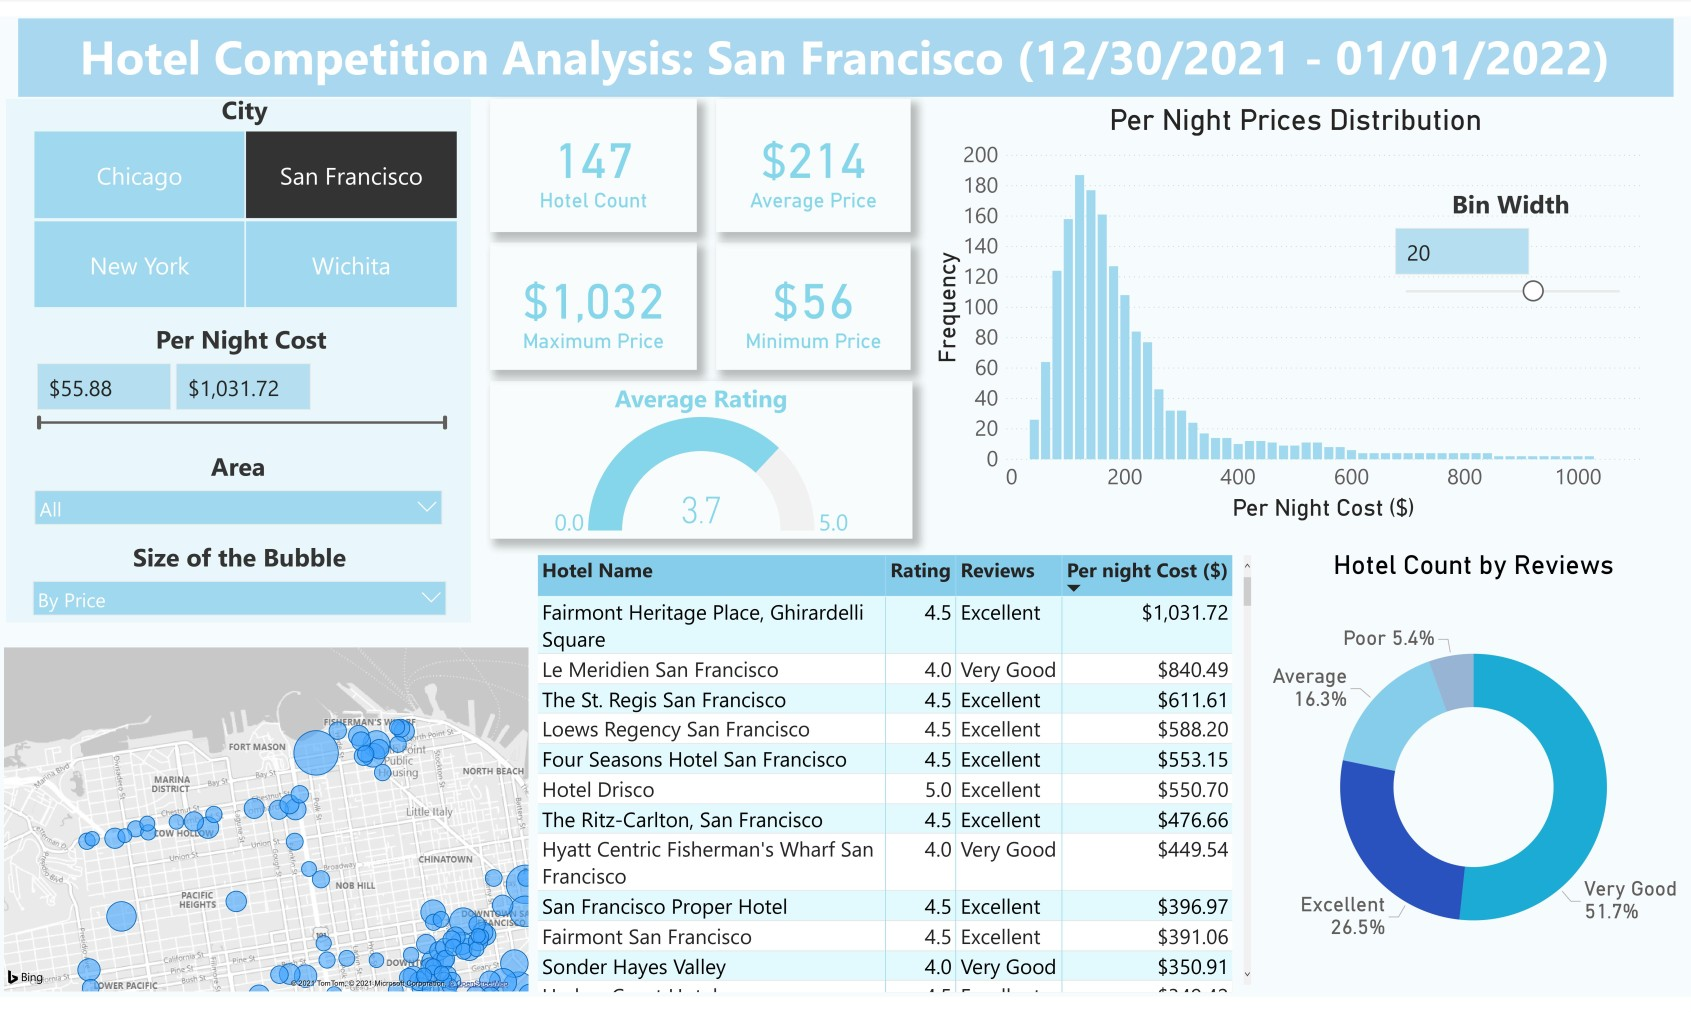

The page's visual inventory and layout, read from the dashboard file:
{"tool":"powerbi","page":{"name":"City level summary","canvas":[2070,1200],"ordinal":2},"visuals":[{"type":"basicShape","box":[0,0,2070.7,101],"z":0},{"type":"card","fields":{"Values":["Hotel_DF.Title"]},"box":[30.3,0,2008.1,92.9],"z":1000},{"type":"card","fields":{"Values":["Hotel_DF.HotelCount"]},"box":[599.8,101.5,252.7,162.9],"z":2000},{"type":"card","fields":{"Values":["Hotel_DF.Lowest Price"]},"box":[876,276.3,238.5,155.8],"z":3000},{"type":"card","fields":{"Values":["Hotel_DF.Max Price"]},"box":[599.8,276.3,252.7,155.8],"z":4000},{"type":"card","fields":{"Values":["Hotel_DF.Average Price"]},"box":[876,101.5,238.5,162.9],"z":5000},{"type":"gauge","title":"Average Rating","fields":{"Y":["Avg(Hotel_DF.Rating)"]},"box":[599.7,446.5,516.6,192.6],"z":6000},{"type":"map","fields":{"Y":["Hotel_DF.lat"],"X":["Hotel_DF.lon"],"Size":["Metrics.Selection"]},"box":[0,768.3,652.3,431.2],"z":7000},{"type":"columnChart","title":"Per Night Prices Distribution","fields":{"Category":["my bins.bin from"],"Y":["my bins._histogram values"]},"box":[1136,105.1,901.8,516.6],"z":8000},{"type":"slicer","title":"Bin Width","fields":{"Values":["Histogram bins.Histogram bins"]},"box":[1694.9,208.1,309.1,155.6],"z":9000},{"type":"donutChart","title":"Hotel Count by Reviews","fields":{"Y":["Hotel_DF.HotelCount"],"Category":["Hotel_DF.Reviews"]},"box":[1537.4,652.5,533.3,545.5],"z":10000},{"type":"basicShape","box":[0,92.3,583.7,656.7],"z":11000},{"type":"slicer","title":"Per Night Cost","fields":{"Values":["Hotel_DF.PerNightCost"]},"box":[31.5,374.1,525.9,175.9],"z":12000},{"type":"slicer","title":"City","fields":{"Values":["Hotel_DF.Area"]},"box":[16.7,92.6,566.7,270.4],"z":13000},{"type":"slicer","title":"Area","fields":{"Values":["Hotel_DF.Location"]},"box":[31.5,529.6,518.5,109.3],"z":14000},{"type":"tableEx","fields":{"Values":["Hotel_DF.Name","Hotel_DF.Rating","Hotel_DF.Reviews","Avg(Hotel_DF.PerNightCost)"]},"box":[652.3,654.5,884.3,545],"z":15000},{"type":"slicer","title":"Size of the Bubble","fields":{"Values":["Metrics.Column1"]},"box":[30,639.5,525.8,128.8],"z":18000}]}

Visuals, with their boxes on the page's 2070x1200 design canvas (x1, y1, x2, y2). These are canvas units, not pixel positions in the 1691x1012 screenshot, which may show the page scaled, cropped or inside an application window:
basicShape: 0 0 2071 101
card - Hotel_DF.Title: 30 0 2038 93
card - Hotel_DF.HotelCount: 600 102 852 264
card - Hotel_DF.Lowest Price: 876 276 1114 432
card - Hotel_DF.Max Price: 600 276 852 432
card - Hotel_DF.Average Price: 876 102 1114 264
"Average Rating" gauge: 600 446 1116 639
map - Hotel_DF.lat x Hotel_DF.lon: 0 768 652 1200
"Per Night Prices Distribution" columnChart: 1136 105 2038 622
"Bin Width" slicer: 1695 208 2004 364
"Hotel Count by Reviews" donutChart: 1537 652 2071 1198
basicShape: 0 92 584 749
"Per Night Cost" slicer: 32 374 557 550
"City" slicer: 17 93 583 363
"Area" slicer: 32 530 550 639
tableEx - Hotel_DF.Name x Hotel_DF.Rating: 652 654 1537 1200
"Size of the Bubble" slicer: 30 640 556 768
